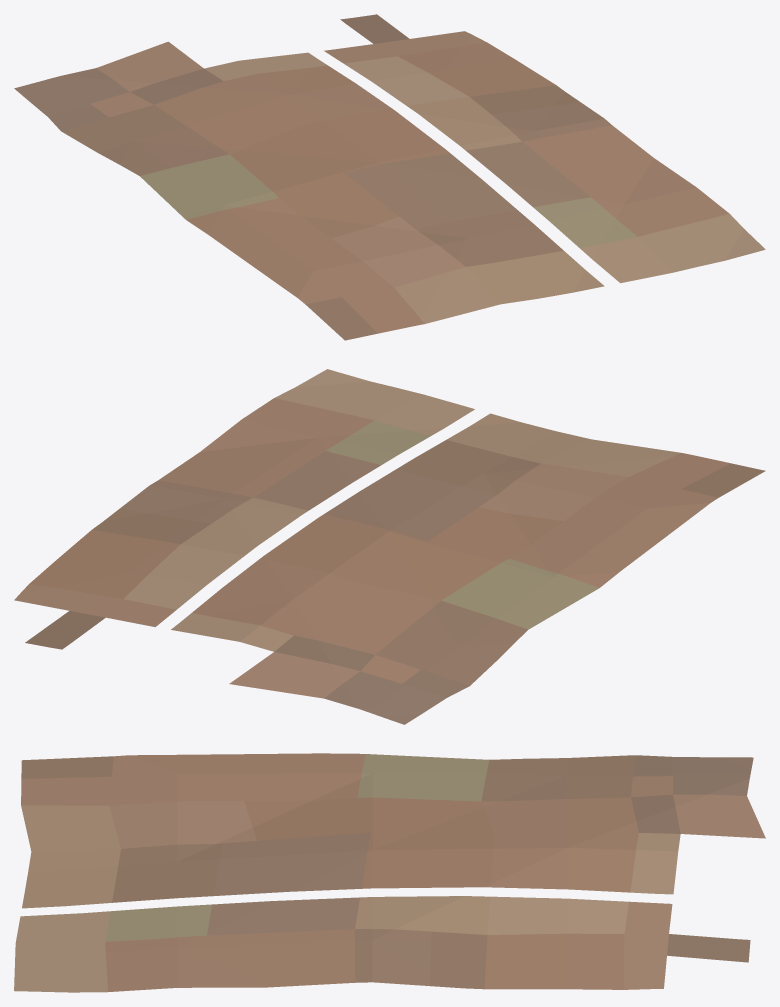
The model's file is farm_-8_10_soil.glb.
3 renders of one model, top to bottom at view 1: azimuth 30°, elevation 25°; view 2: azimuth 150°, elevation 25°; view 3: azimuth 270°, elevation 25°, orthographic. The views are drawn at different scales.
Visible parts, largest first — view 1: geometry_0; view 2: geometry_0; view 3: geometry_0.
Part boxes in pixels (box(x1,y1,x2,y2)): geometry_0: box(14, 14, 765, 340); geometry_0: box(14, 369, 765, 724); geometry_0: box(14, 753, 765, 992).
Size of the model in its own units: 220 by 12.16 by 308.
